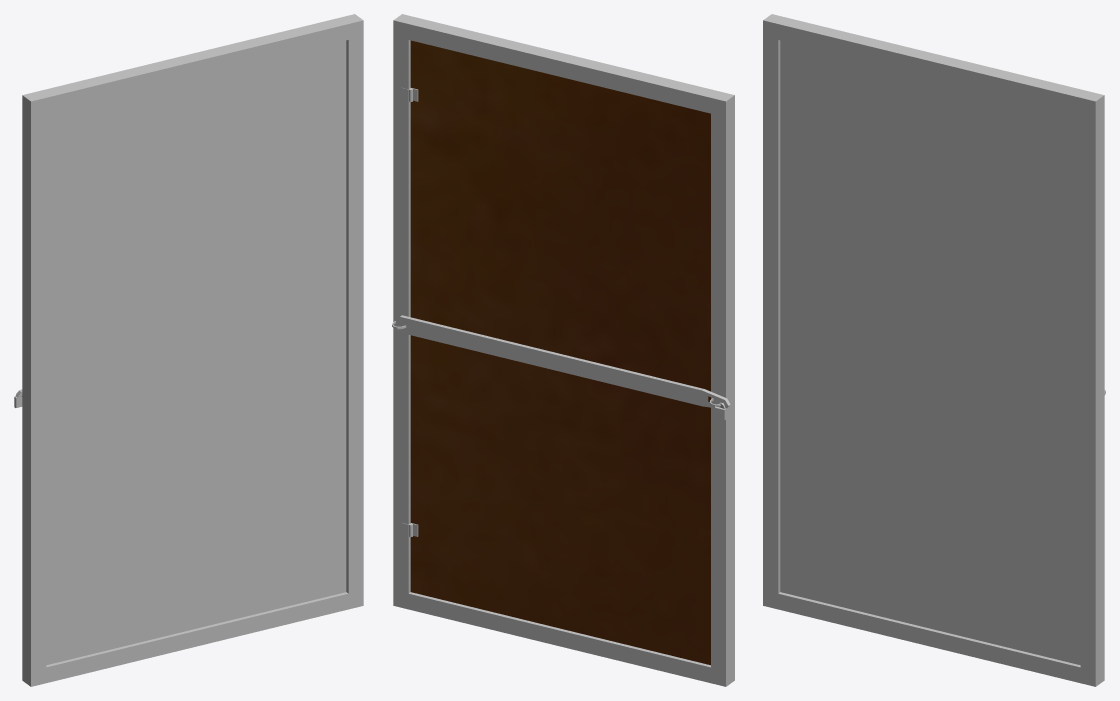
The model's file is Door.obj.
3 views of the same model, side by side, from view 1: azimuth 30°, elevation 25°; view 2: azimuth 150°, elevation 25°; view 3: azimuth 330°, elevation 25° (orthographic).
Parts seen in each view (by area): view 1: the door, planeLeft, planeRight, planeUp, planeDown; view 2: the door, planeLeft, planeRight, planeUp, planeDown, lockPlane; view 3: the door, planeRight, planeLeft, planeUp, planeDown.
Boxes of the visible parts, bbox=[...] form: the door: bbox=[46, 40, 346, 665]; planeLeft: bbox=[22, 111, 46, 670]; planeRight: bbox=[346, 36, 363, 593]; planeUp: bbox=[22, 14, 363, 117]; planeDown: bbox=[22, 590, 363, 686]; the door: bbox=[410, 40, 710, 665]; planeLeft: bbox=[711, 111, 734, 670]; planeRight: bbox=[393, 36, 410, 593]; planeUp: bbox=[393, 14, 734, 117]; planeDown: bbox=[393, 590, 734, 686]; lockPlane: bbox=[396, 315, 730, 408]; the door: bbox=[780, 40, 1080, 665]; planeRight: bbox=[1080, 111, 1104, 670]; planeLeft: bbox=[763, 36, 780, 593]; planeUp: bbox=[763, 14, 1104, 117]; planeDown: bbox=[763, 590, 1104, 686].
Size of the model in its own units: 0.5575 by 0.925 by 0.0427.
